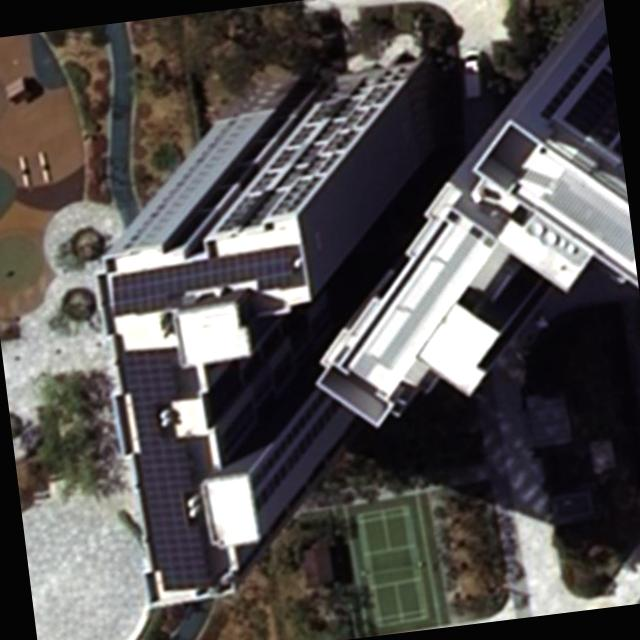solar: (118, 342, 214, 596), (108, 242, 301, 303)
